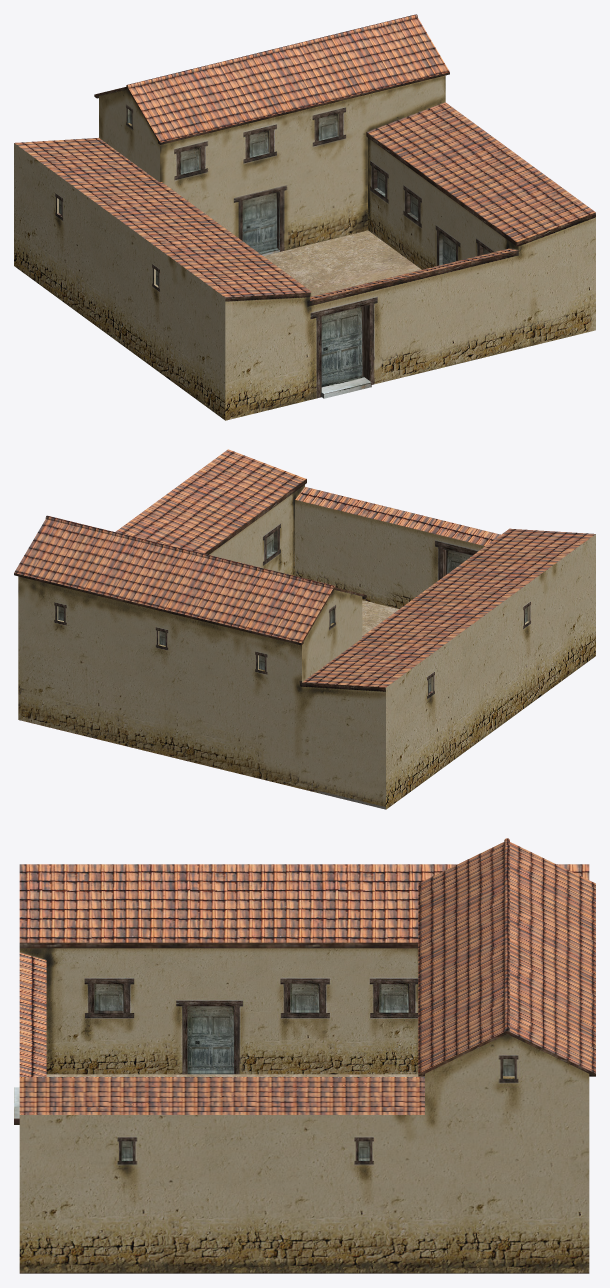
Rendered from romanhouse1.fbx.
3 renders of one model, top to bottom at view 1: azimuth 30°, elevation 25°; view 2: azimuth 150°, elevation 25°; view 3: azimuth 270°, elevation 25°, orthographic. The views are drawn at different scales.
Parts seen in each view (by area): view 1: Group1; view 2: Group1; view 3: Group1.
Part boxes in pixels (box(x1,y1,x2,y2)): Group1: box(14, 14, 595, 420); Group1: box(14, 449, 595, 809); Group1: box(14, 838, 595, 1273).
Bounding box in the file's own units: 12243 × 5749 × 12302.
